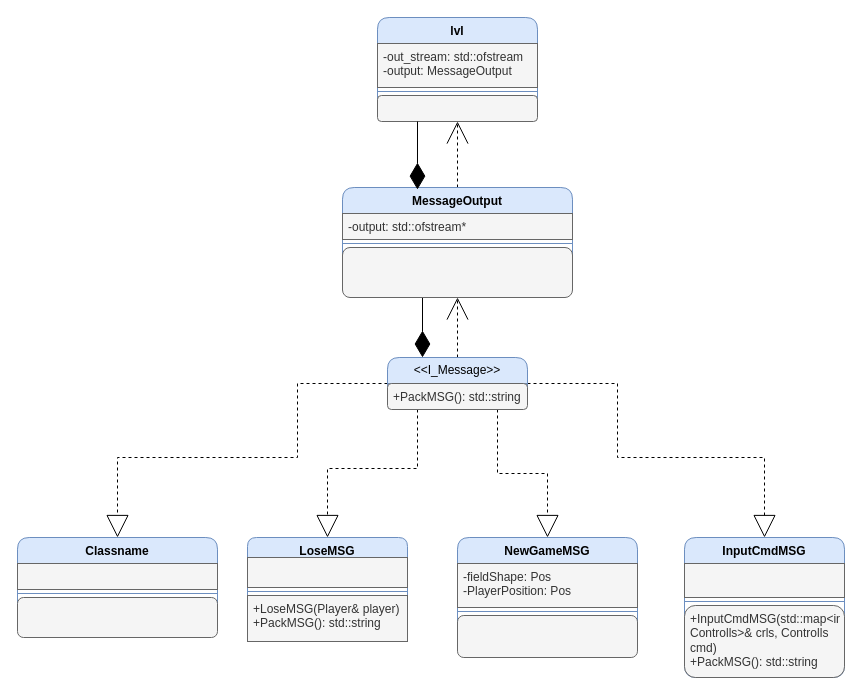
This 866x698 diagram has some shape labels left out. Here are the shapes that lost their labels. From the top down, the centre of each, then its label:
the point at 457,108: +start(): void
the point at 457,272: +MessageOutput(std::ofstream* output) + writeLog(I_Message* msg): void
the point at 117,576: -characts: std::vector<Charact>
the point at 327,572: -position: Pos
the point at 764,580: -cmd: Controlls - KeyCode: int
the point at 117,617: +WinMSG(Player& player) +PackMSG(): std::string
the point at 547,636: +NewGameMSG(Field& field) + PackMSG(): std::string
